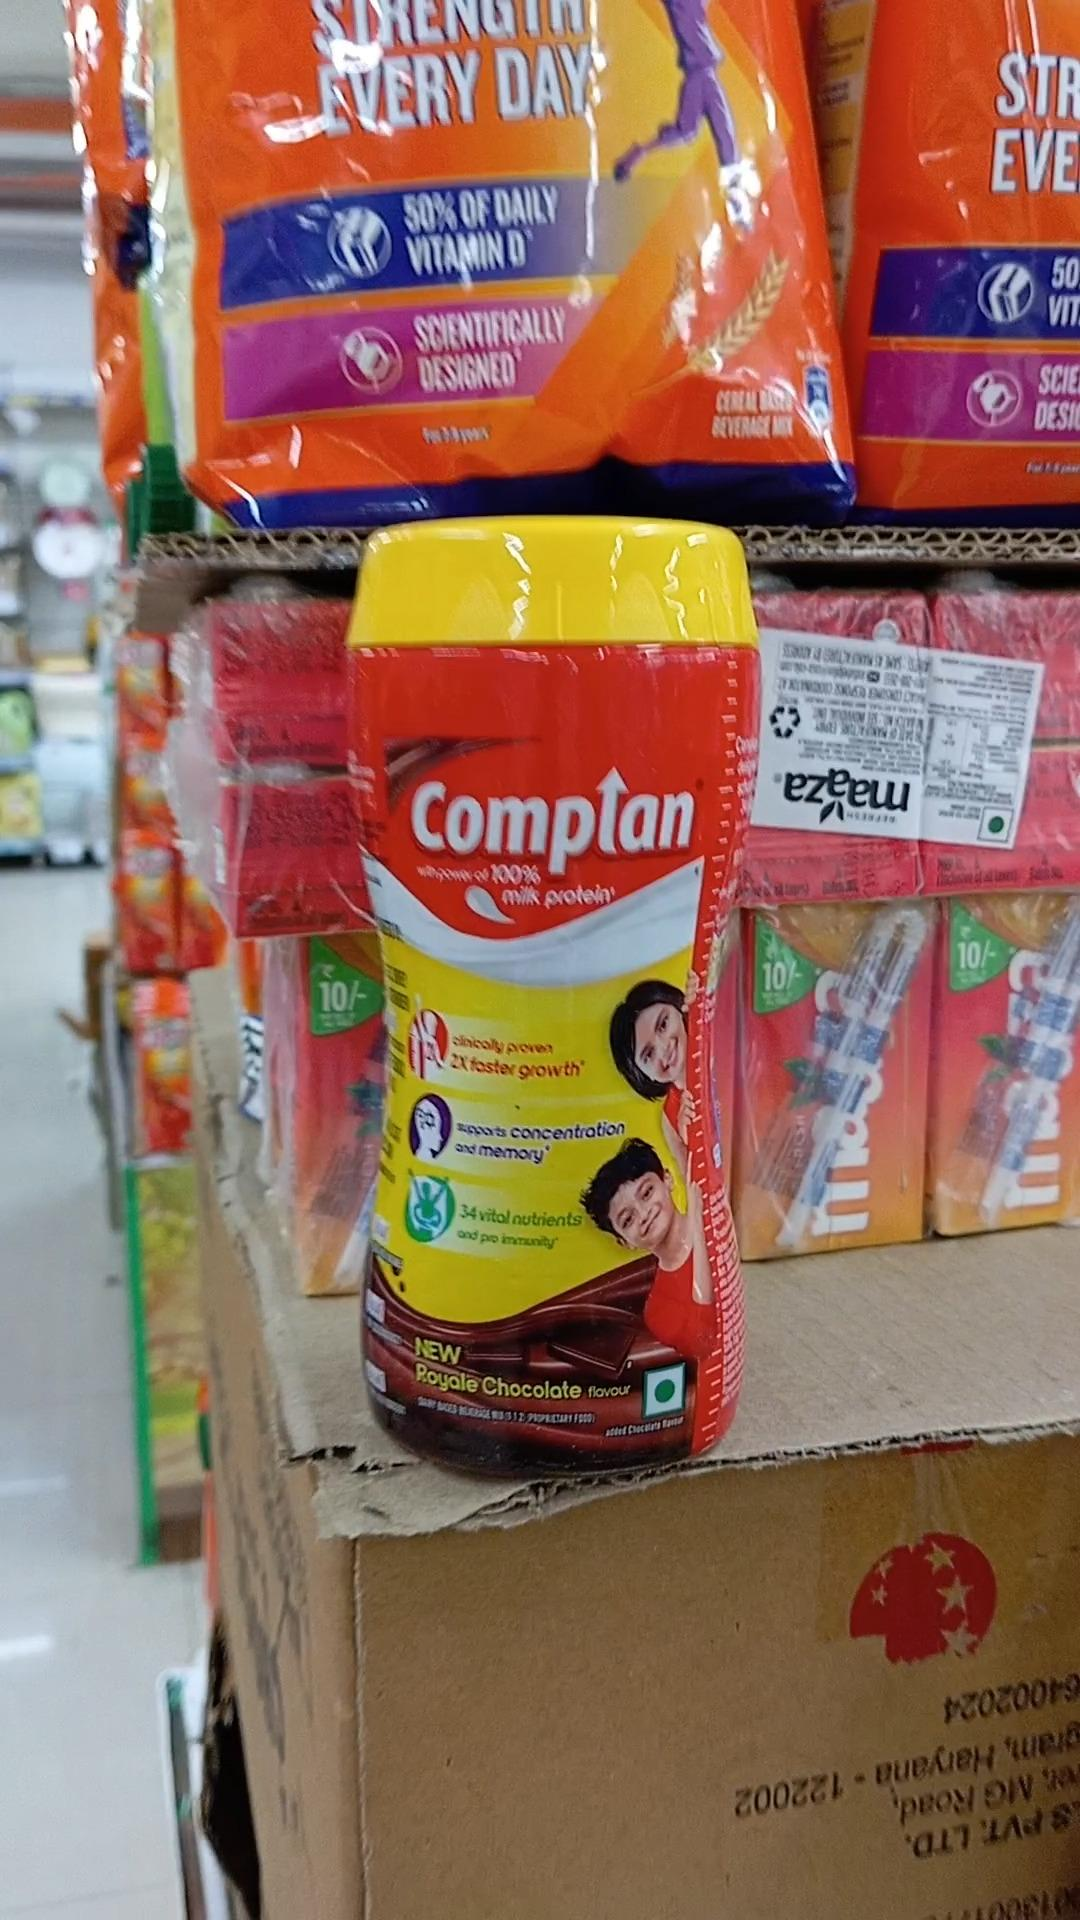COMPLAN_CHOCOLATE_200_GMS_JAR: (357, 506, 744, 1505)
